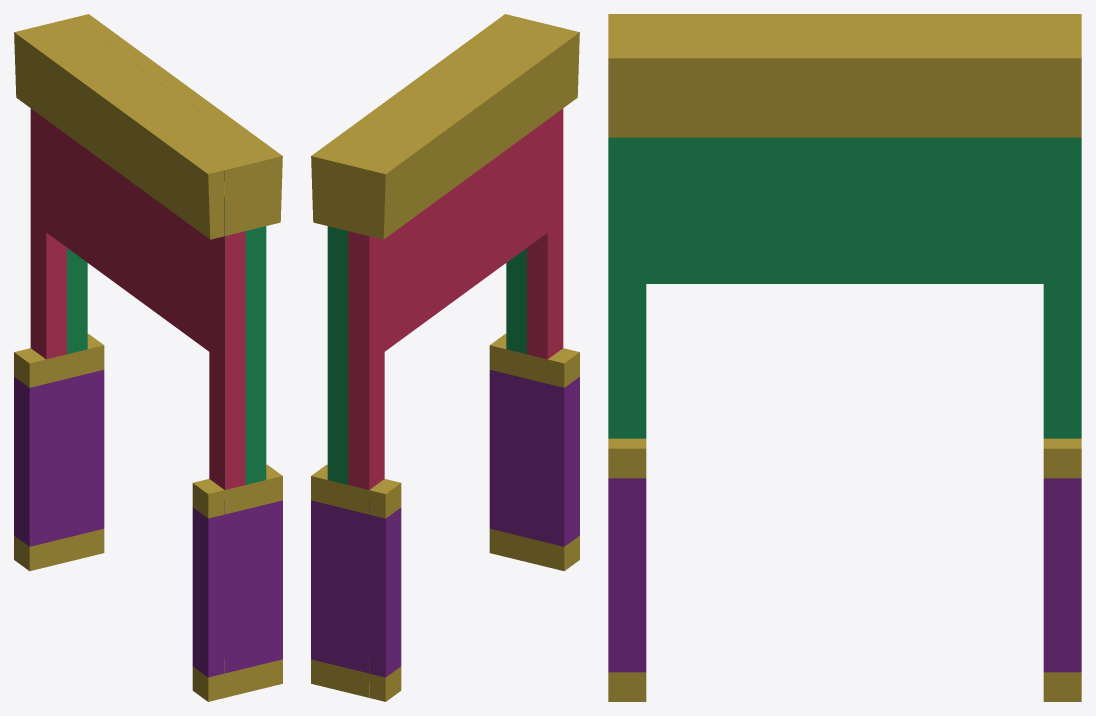
File: Doorway_2.FBX
3 views of the same model, side by side, from view 1: azimuth 30°, elevation 25°; view 2: azimuth 150°, elevation 25°; view 3: azimuth 270°, elevation 25° (orthographic). The views are drawn at different scales.
Visible parts, largest first — view 1: Doorway; view 2: Doorway; view 3: Doorway.
Boxes of the visible parts, box(x1,y1,x2,y2) form: Doorway: box(14, 14, 282, 701); Doorway: box(311, 14, 579, 701); Doorway: box(608, 14, 1081, 701).
Size of the model in its own units: 0.7405 by 5 by 3.33.
